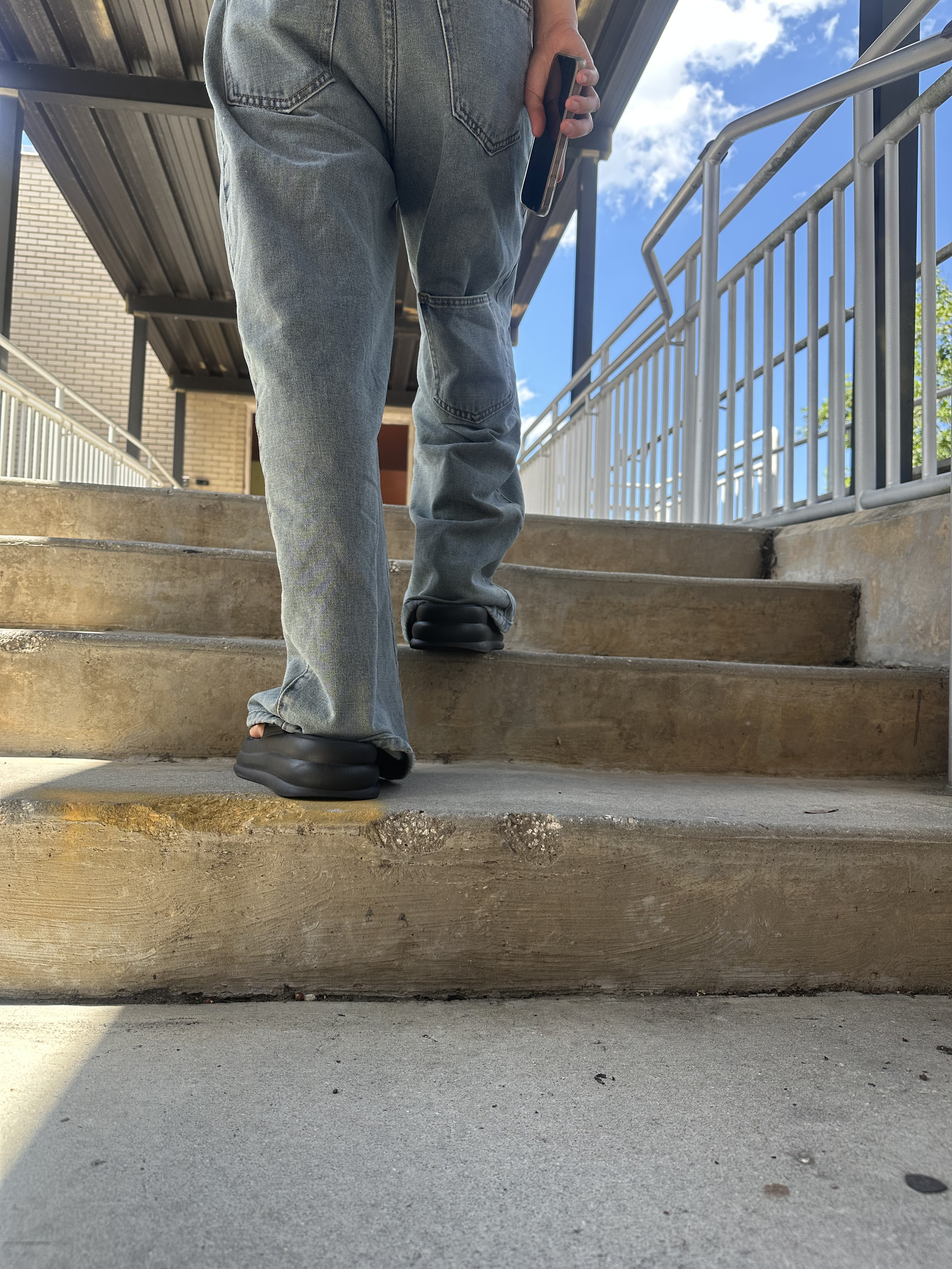stairs: (3, 475, 952, 1002)
